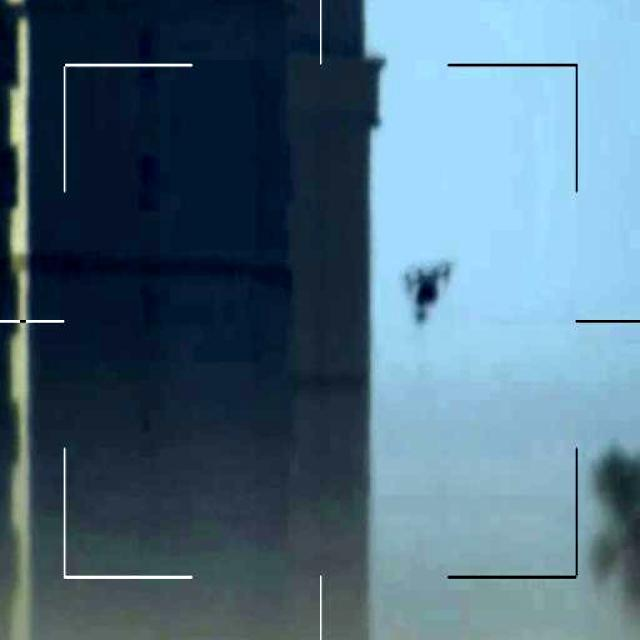bird: (396, 255, 456, 331)
